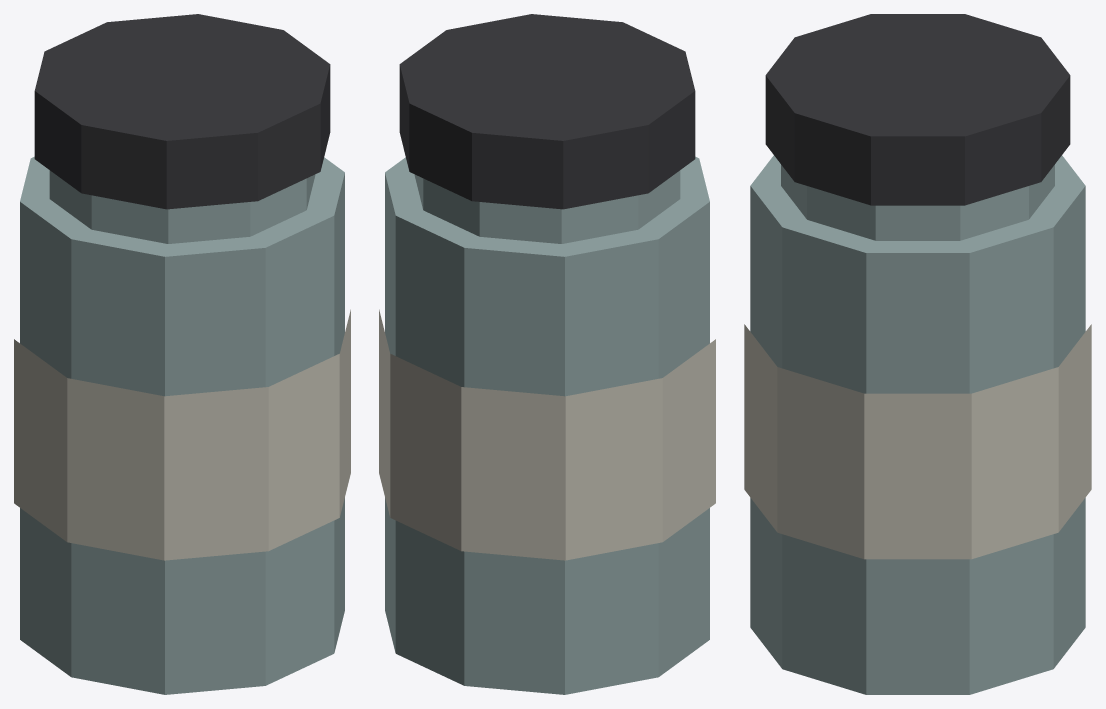
The model's file is Weed_Jar.glb.
3 views of the same model, side by side, from view 1: azimuth 30°, elevation 25°; view 2: azimuth 150°, elevation 25°; view 3: azimuth 270°, elevation 25° (orthographic).
Visible parts, largest first — view 1: Weed_Jar; view 2: Weed_Jar; view 3: Weed_Jar.
Part boxes in pixels (x1,y1,x2,y2): Weed_Jar: [14, 14, 350, 694]; Weed_Jar: [379, 14, 715, 694]; Weed_Jar: [744, 14, 1091, 694].
Bounding box in the file's own units: 0.1084 × 0.2 × 0.114.
